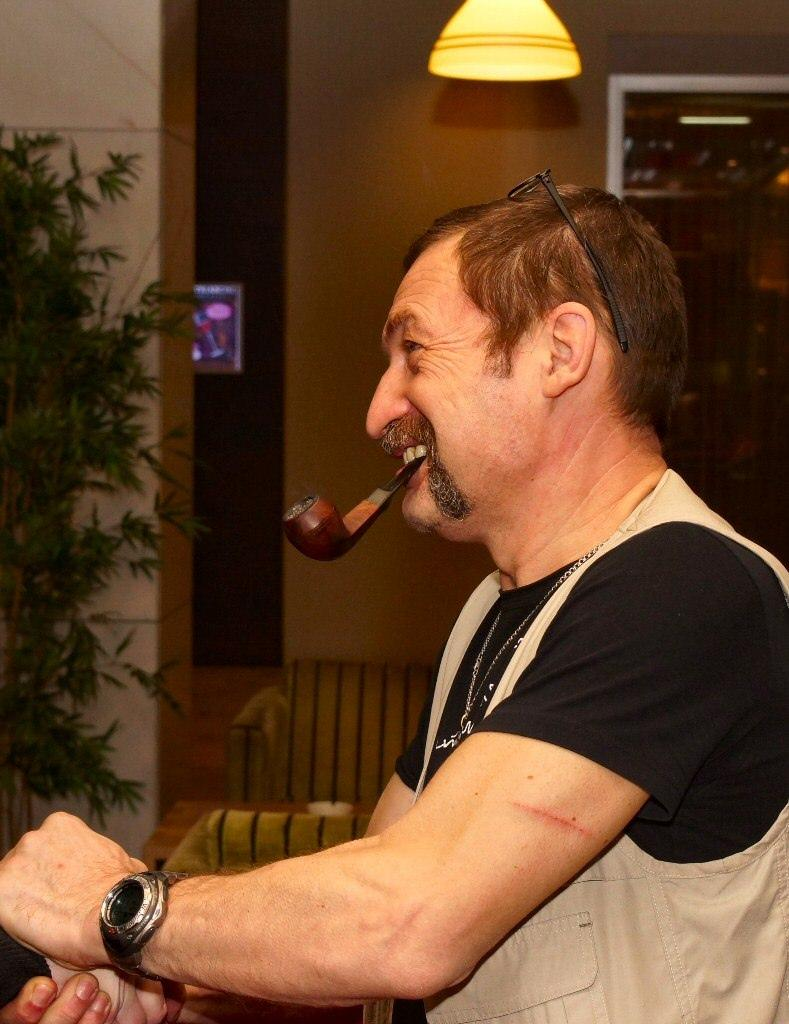trubka: (281, 455, 425, 562)
